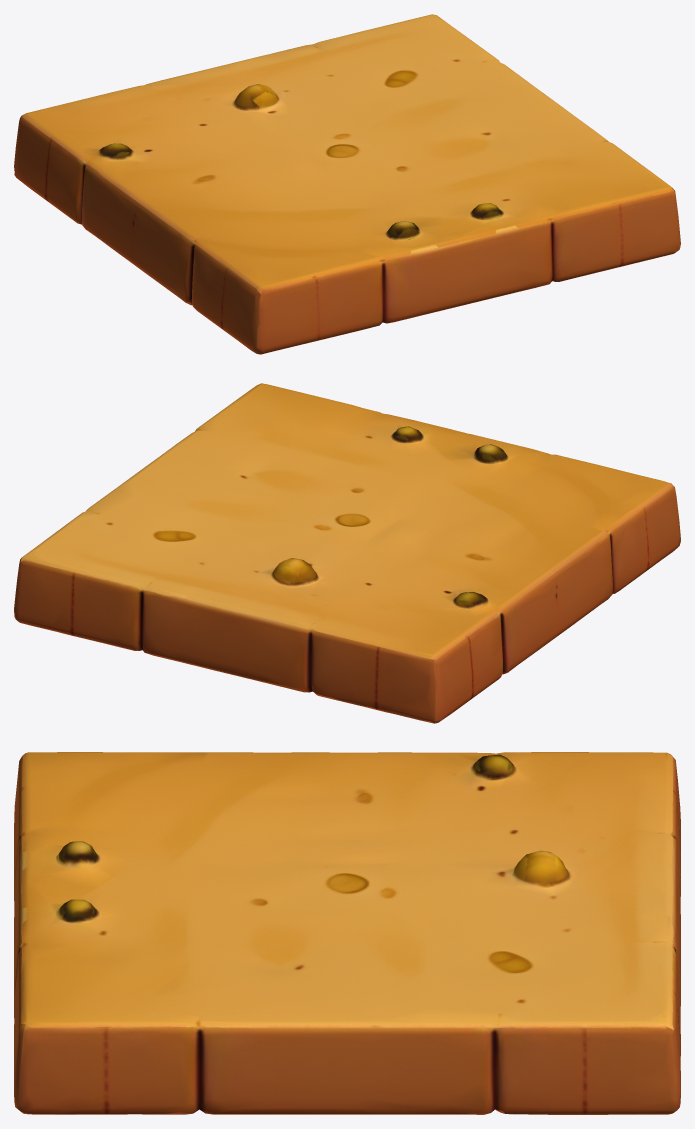
File: Tile.fbx
3 renders of one model, top to bottom at view 1: azimuth 30°, elevation 25°; view 2: azimuth 150°, elevation 25°; view 3: azimuth 270°, elevation 25°, orthographic. The views are drawn at different scales.
Parts seen in each view (by area): view 1: tmpqbdmgr7z.ply; view 2: tmpqbdmgr7z.ply; view 3: tmpqbdmgr7z.ply.
Boxes of the visible parts, x1=… form: tmpqbdmgr7z.ply: x1=14, y1=14, x2=680, y2=354; tmpqbdmgr7z.ply: x1=14, y1=383, x2=680, y2=723; tmpqbdmgr7z.ply: x1=14, y1=752, x2=680, y2=1114.
Bounding box in the file's own units: 199 × 37.01 × 199.
1 material, 1 textured.
